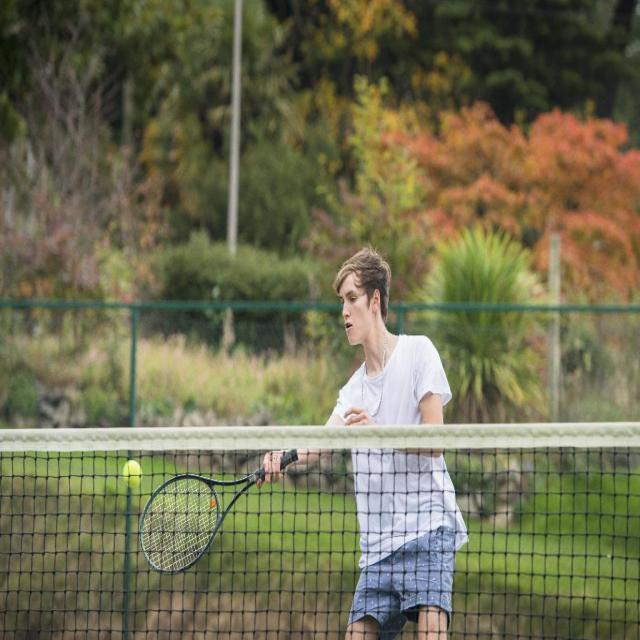Tennis ball: (123, 461, 141, 486)
